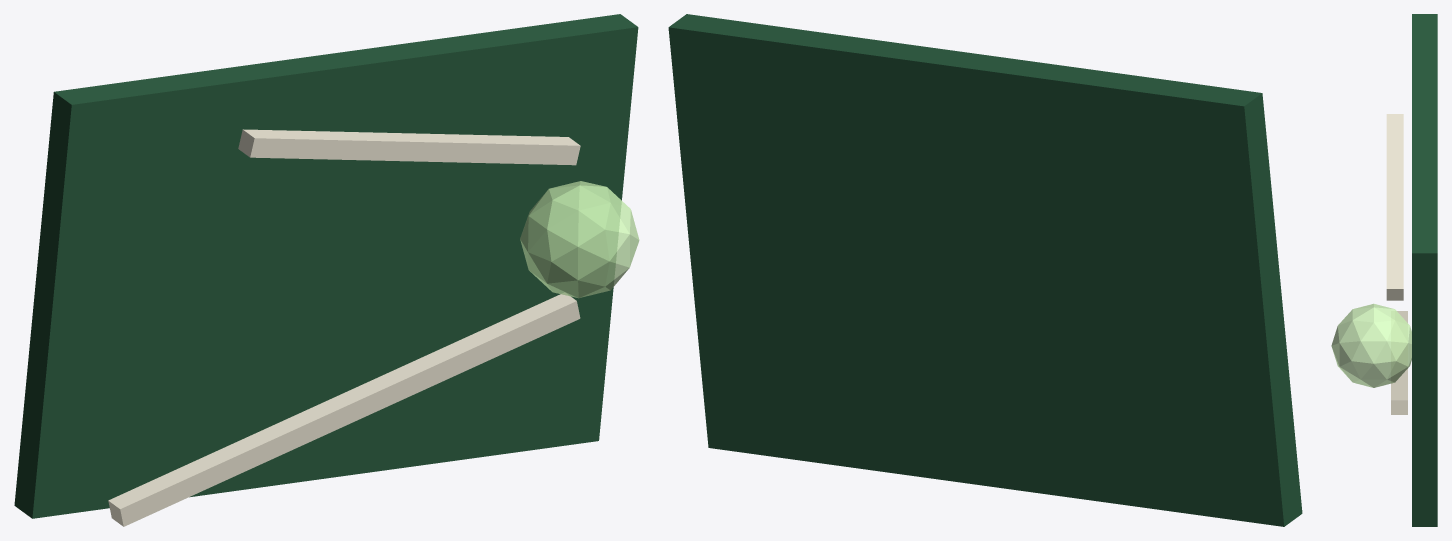
Rendered from 02_world_prop_polish.glb.
3 renders of one model, left to right at view 1: azimuth 30°, elevation 25°; view 2: azimuth 150°, elevation 25°; view 3: azimuth 270°, elevation 25°, orthographic. The views are drawn at different scales.
Parts seen in each view (by area): view 1: object_overlay_plate, edge_wear_a, glow_socket, edge_wear_b; view 2: object_overlay_plate; view 3: object_overlay_plate, glow_socket, edge_wear_b, edge_wear_a.
Boxes of the visible parts, x1=… form: object_overlay_plate: x1=14, y1=14, x2=638, y2=518; edge_wear_a: x1=108, y1=293, x2=580, y2=526; glow_socket: x1=520, y1=181, x2=639, y2=298; edge_wear_b: x1=238, y1=129, x2=580, y2=165; object_overlay_plate: x1=668, y1=14, x2=1302, y2=526; object_overlay_plate: x1=1412, y1=14, x2=1437, y2=526; glow_socket: x1=1331, y1=303, x2=1411, y2=387; edge_wear_b: x1=1386, y1=114, x2=1403, y2=300; edge_wear_a: x1=1391, y1=311, x2=1407, y2=414.
Bounding box in the file's own units: 1.17 × 0.8577 × 0.25.
